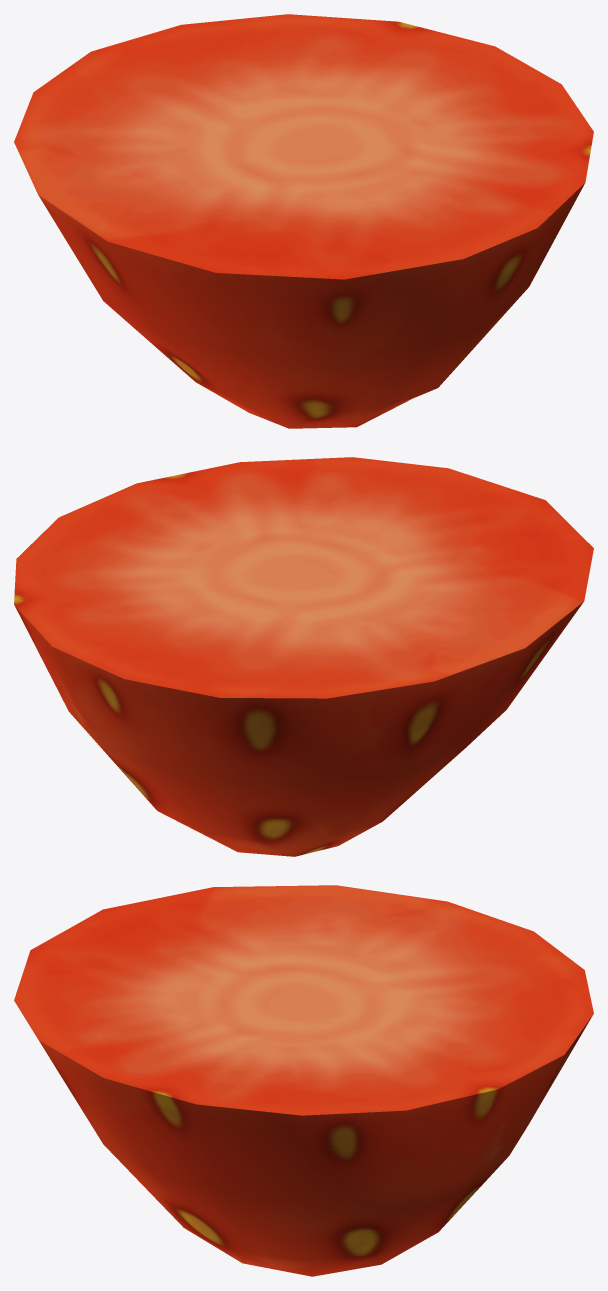
The model's file is SM_StrawberrySliceD.fbx.
3 views of the same model, one above another, from view 1: azimuth 30°, elevation 25°; view 2: azimuth 150°, elevation 25°; view 3: azimuth 270°, elevation 25° (orthographic). The views are drawn at different scales.
Visible parts, largest first — view 1: SM_StrawberrySliceD; view 2: SM_StrawberrySliceD; view 3: SM_StrawberrySliceD.
Part boxes in pixels (x1,y1,x2,y2): SM_StrawberrySliceD: (14,14,593,428); SM_StrawberrySliceD: (14,457,593,856); SM_StrawberrySliceD: (14,885,593,1276).
Bounding box in the file's own units: 4.68 × 2.43 × 4.97.
